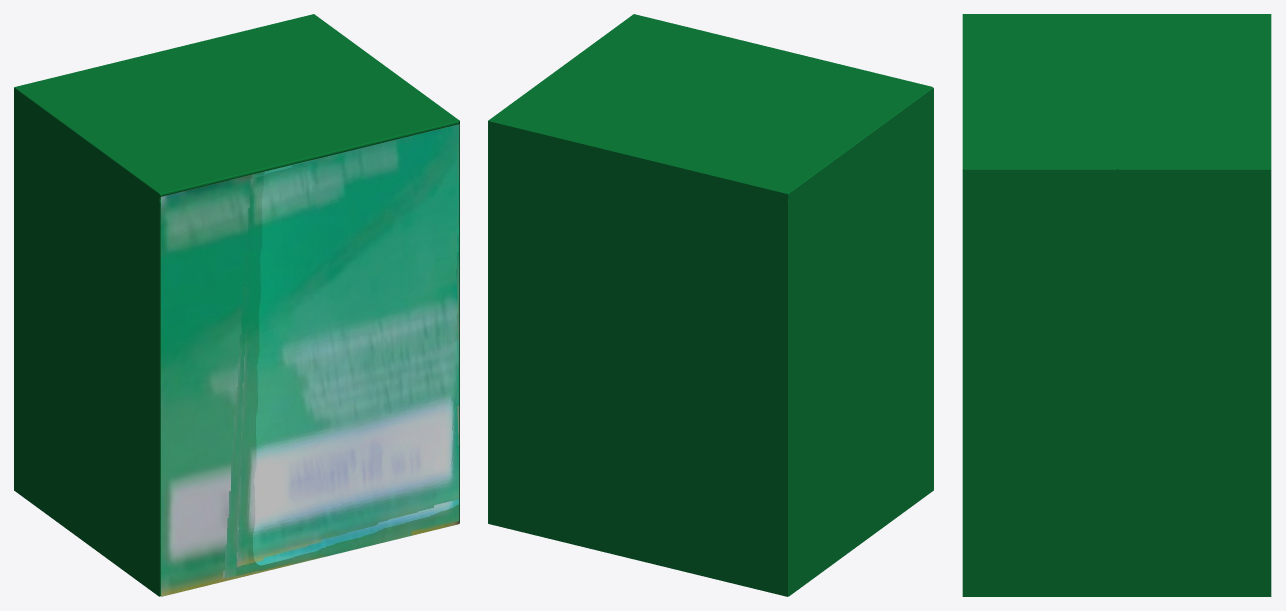
The picture shows the model from 3 angles, left to right: view 1: azimuth 30°, elevation 25°; view 2: azimuth 150°, elevation 25°; view 3: azimuth 270°, elevation 25°; orthographic projection. The views are drawn at different scales.
Parts seen in each view (by area): view 1: small_food_carton__body, small_food_carton__flap_front, small_food_carton__flap_back; view 2: small_food_carton__body, small_food_carton__flap_back, small_food_carton__flap_front; view 3: small_food_carton__body, small_food_carton__flap_front, small_food_carton__flap_back.
Boxes of the visible parts, box(x1,y1,x2,y2) form: small_food_carton__body: box(14, 87, 459, 596); small_food_carton__flap_front: box(87, 67, 459, 196); small_food_carton__flap_back: box(14, 14, 386, 141); small_food_carton__body: box(488, 88, 933, 596); small_food_carton__flap_back: box(488, 67, 860, 196); small_food_carton__flap_front: box(561, 14, 932, 141); small_food_carton__body: box(962, 169, 1271, 596); small_food_carton__flap_front: box(962, 14, 1116, 169); small_food_carton__flap_back: box(1117, 14, 1271, 169).
Bounding box in the file's own units: 0.0731 × 0.0937 × 0.0615.
6 materials, 5 textured.
